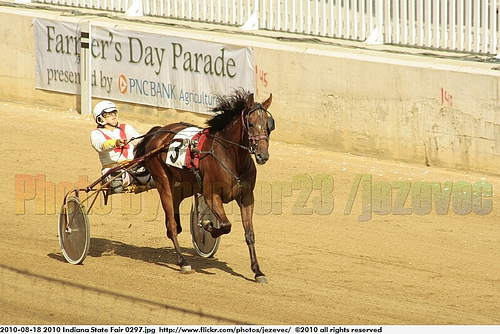horse: (125, 92, 275, 283)
